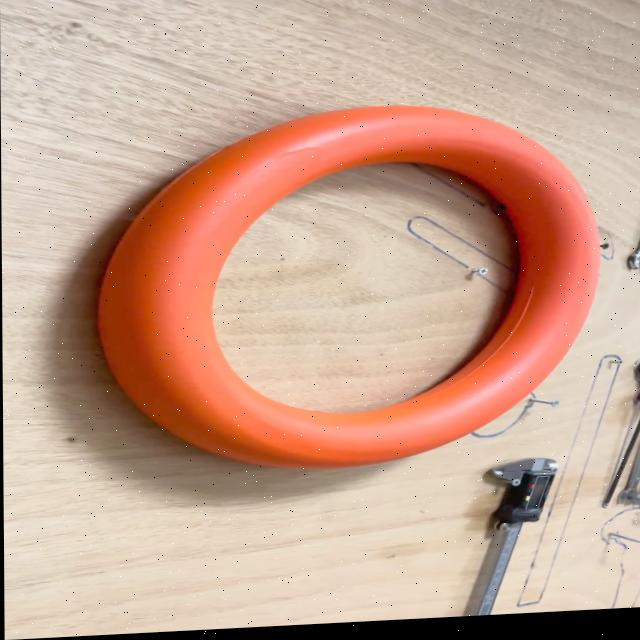note: (93, 99, 605, 484)
